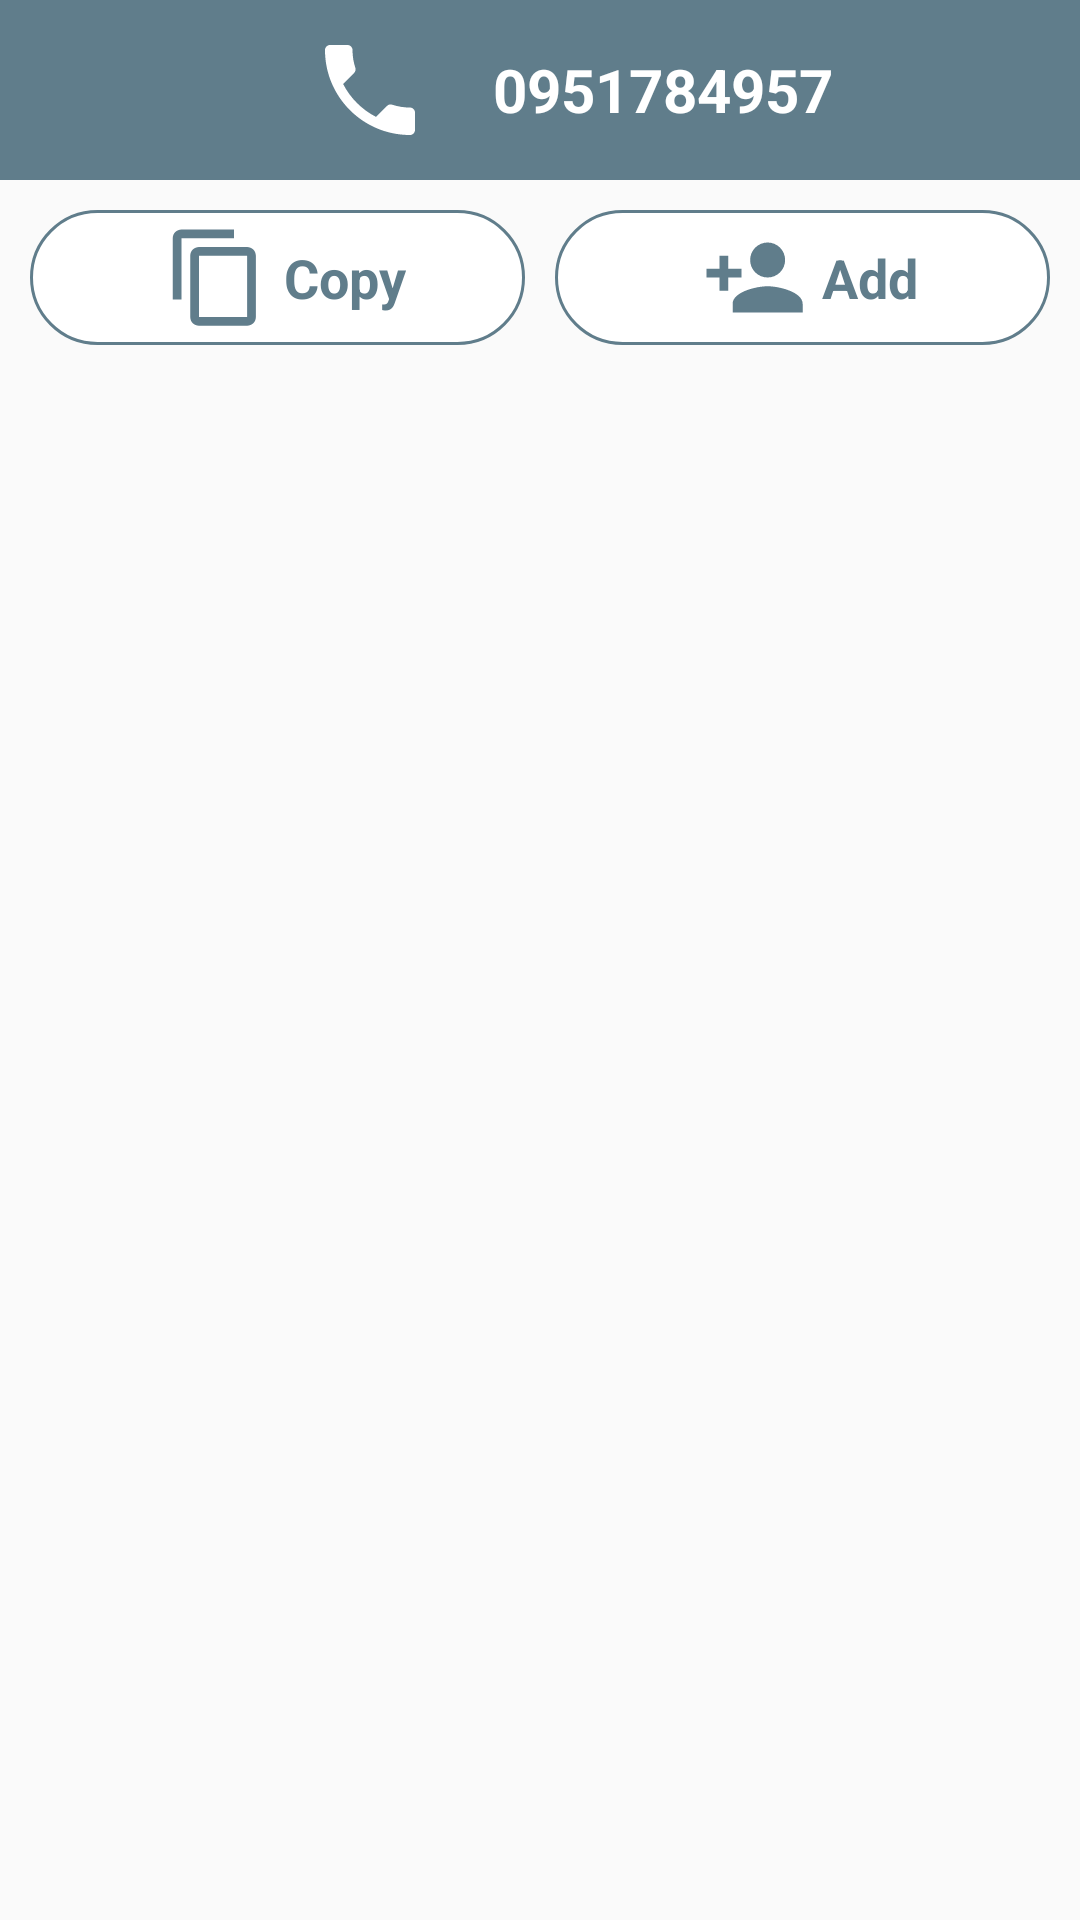

Where to tap for icons on this 1080×1920 app screen, as (x,y):
call: (370,90)
person add: (754,277)
